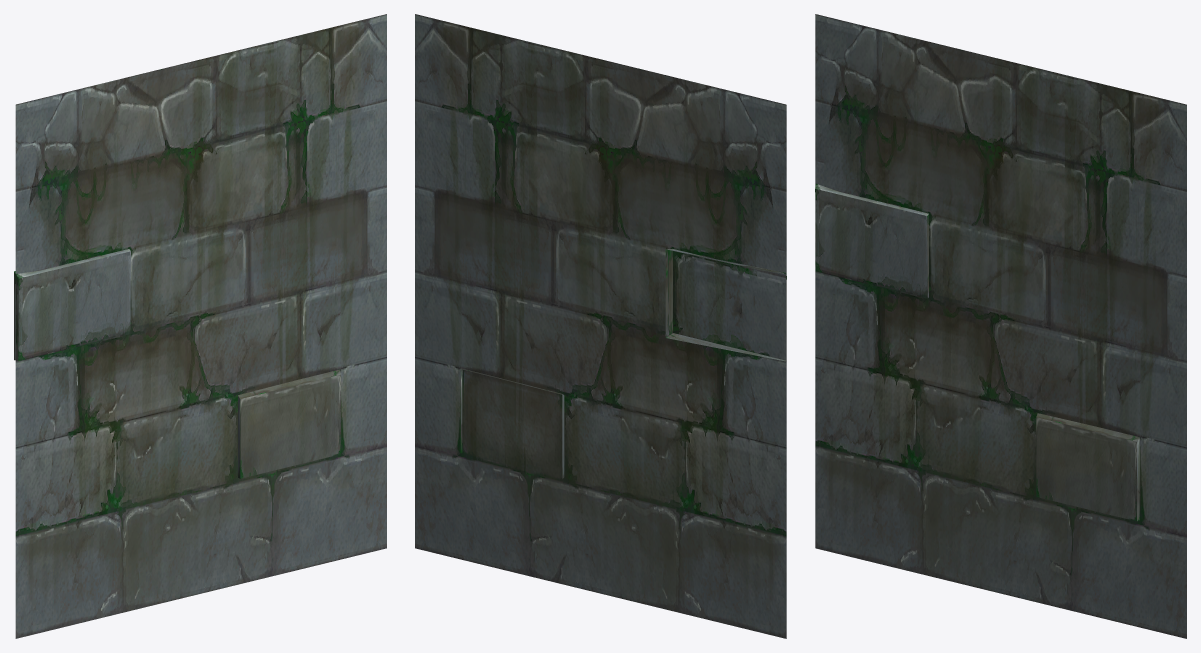
The model's file is stemple_wall_straight_04.fbx.
The picture shows the model from 3 angles, left to right: view 1: azimuth 30°, elevation 25°; view 2: azimuth 150°, elevation 25°; view 3: azimuth 330°, elevation 25°; orthographic projection.
Parts seen in each view (by area): view 1: obj1.048; view 2: obj1.048; view 3: obj1.048.
Boxes of the visible parts, x1,y1,x2,y2 form: obj1.048: (14, 14, 386, 638); obj1.048: (415, 14, 786, 638); obj1.048: (815, 14, 1186, 638).
Size of the model in its own units: 4.01 by 5.5 by 0.1653.
